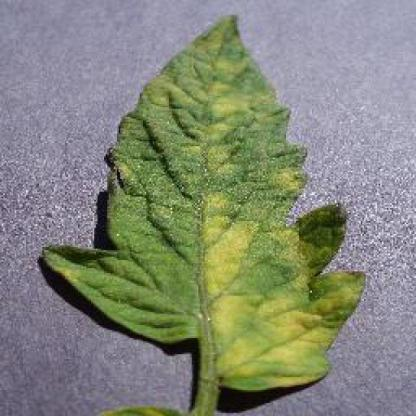Tomato_Leaf_Mold: (47, 14, 368, 393)
